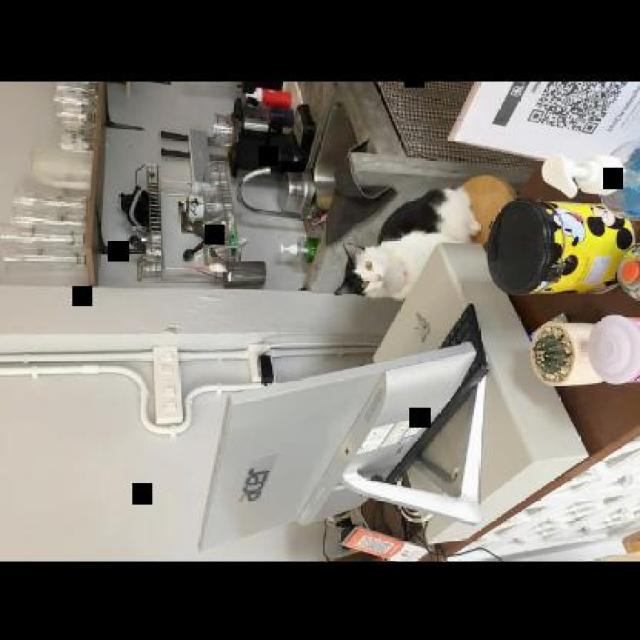unauthorized: (338, 185, 482, 300)
